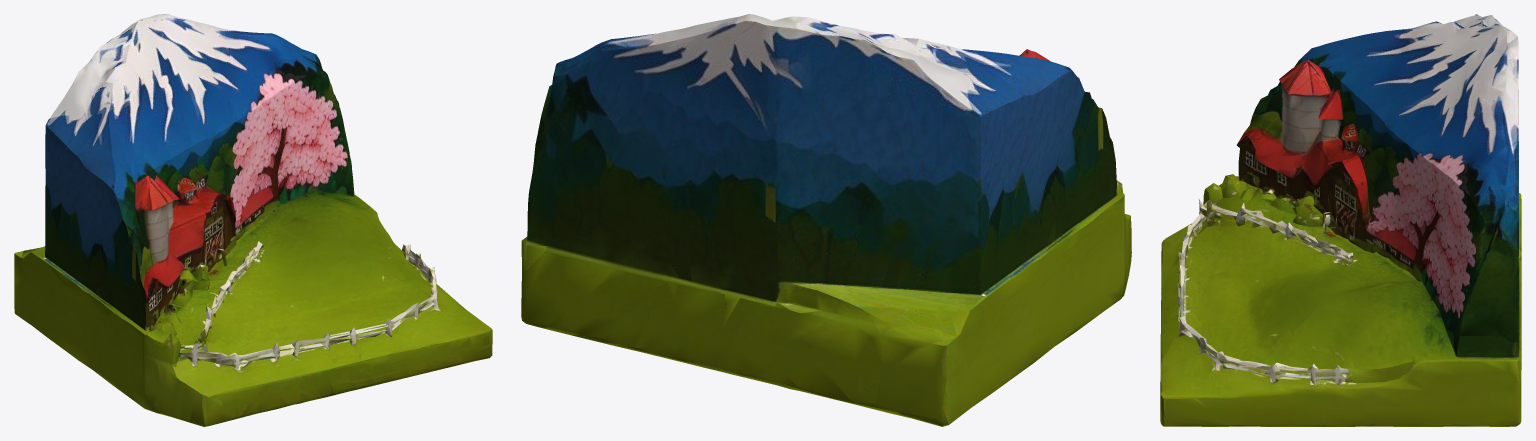
Rendered from koiwai-farm.glb.
3 renders of one model, left to right at view 1: azimuth 30°, elevation 25°; view 2: azimuth 150°, elevation 25°; view 3: azimuth 270°, elevation 25°, orthographic. The views are drawn at different scales.
Visible parts, largest first — view 1: logan-textured.obj; view 2: logan-textured.obj; view 3: logan-textured.obj.
Part boxes in pixels (bbox=[...]): logan-textured.obj: bbox=[14, 14, 492, 426]; logan-textured.obj: bbox=[521, 14, 1131, 426]; logan-textured.obj: bbox=[1160, 14, 1521, 426].
Size of the model in its own units: 1 by 0.8196 by 0.9047.
Materials: 1 (1 with a texture image).
